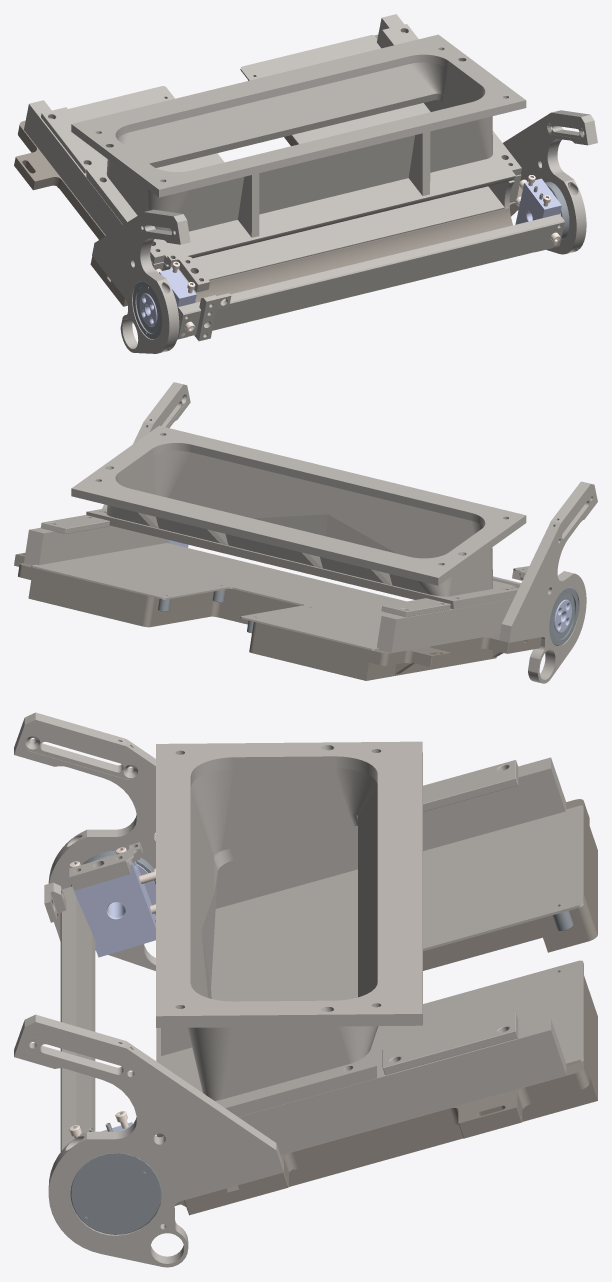
File: top-box-1.glb
The picture shows the model from 3 angles, top to bottom: view 1: azimuth 30°, elevation 25°; view 2: azimuth 150°, elevation 25°; view 3: azimuth 270°, elevation 25°; orthographic projection. The views are drawn at different scales.
Visible parts, largest first — view 1: Mirror74_-_Part, Mirror71_-_Part, Cover_Plate-1_-_Part, 99810176-A-1_-_Part, Cut-Extrude14_-_Part, M8x125_Tapped_Hole3_-_Part_5, M8x125_Tapped_Hole2_-_Part, 99811103-RH-60-410-1_-_Part, 99811105-3_-_Part, Ø140_(14)_Diameter_Hole1_-_Part, Cut-Extrude1_2_-_Part, 99810175-1_-_Part (+7 smaller); view 2: Mirror74_-_Part, Mirror71_-_Part, Cover_Plate-1_-_Part, Cut-Extrude14_-_Part, M8x125_Tapped_Hole3_-_Part_5, 99811103-RH-60-410-1_-_Part, 99811103-LH-60-410-2_-_Part, M8x125_Tapped_Hole2_-_Part, Ø140_(14)_Diameter_Hole1_-_Part, 99811105-3_-_Part, 99811105-4_-_Part, 99810190-1_-_Part (+2 smaller); view 3: Cover_Plate-1_-_Part, Mirror74_-_Part, Mirror71_-_Part, M8x125_Tapped_Hole2_-_Part, Cut-Extrude14_-_Part, 99811103-LH-60-410-2_-_Part, 99811103-RH-60-410-1_-_Part, M8x125_Tapped_Hole3_-_Part_5, 99810176-A-1_-_Part, 99810189-1_-_Part, 99810177-1_-_Part, Cut-Extrude1_2_-_Part (+7 smaller).
Part boxes in pixels (box(x1,y1,x2,y2)): Mirror74_-_Part: box(71, 34, 526, 264); Mirror71_-_Part: box(106, 62, 492, 231); Cover_Plate-1_-_Part: box(68, 35, 505, 282); 99810176-A-1_-_Part: box(177, 214, 564, 339); Cut-Extrude14_-_Part: box(14, 34, 522, 306); M8x125_Tapped_Hole3_-_Part_5: box(92, 209, 190, 353); M8x125_Tapped_Hole2_-_Part: box(503, 110, 597, 252); 99811103-RH-60-410-1_-_Part: box(24, 100, 170, 270); 99811105-3_-_Part: box(41, 107, 107, 173); Ø140_(14)_Diameter_Hole1_-_Part: box(147, 272, 179, 353); Cut-Extrude1_2_-_Part: box(554, 172, 586, 254); 99810175-1_-_Part: box(515, 178, 561, 252); Mirror74_-_Part: box(71, 425, 526, 609); Mirror71_-_Part: box(106, 450, 492, 596); Cover_Plate-1_-_Part: box(31, 543, 406, 650); Cut-Extrude14_-_Part: box(14, 553, 541, 680); M8x125_Tapped_Hole3_-_Part_5: box(499, 481, 597, 683); 99811103-RH-60-410-1_-_Part: box(377, 599, 513, 652); 99811103-LH-60-410-2_-_Part: box(24, 525, 166, 565); M8x125_Tapped_Hole2_-_Part: box(102, 382, 190, 508); Ø140_(14)_Diameter_Hole1_-_Part: box(558, 571, 586, 659); 99811105-3_-_Part: box(381, 598, 450, 617); 99811105-4_-_Part: box(41, 515, 109, 533); 99810190-1_-_Part: box(549, 587, 578, 645); Cover_Plate-1_-_Part: box(211, 805, 583, 1067); Mirror74_-_Part: box(156, 741, 422, 1116); Mirror71_-_Part: box(161, 768, 378, 1100); M8x125_Tapped_Hole2_-_Part: box(14, 1014, 283, 1267); Cut-Extrude14_-_Part: box(156, 799, 597, 1215); 99811103-LH-60-410-2_-_Part: box(238, 1019, 566, 1154); 99811103-RH-60-410-1_-_Part: box(215, 757, 566, 908); M8x125_Tapped_Hole3_-_Part_5: box(14, 712, 155, 970); 99810176-A-1_-_Part: box(60, 886, 95, 1151); 99810189-1_-_Part: box(70, 1153, 161, 1234); 99810177-1_-_Part: box(71, 861, 155, 957); Cut-Extrude1_2_-_Part: box(48, 1131, 116, 1256).
Size of the model in its own units: 0.84 by 0.3207 by 0.6699.
